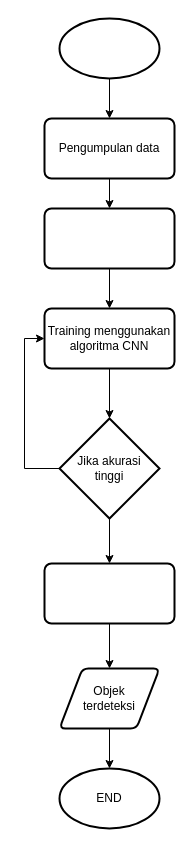
Image size: 193x846. Some labels were removed from this diagram. Here are the shapes that lost their labels. From the top down, the centre of each, then its label:
At point 109,48: "START".
At point 109,238: "Preprocessing".
At point 109,593: "Pengujian model".
